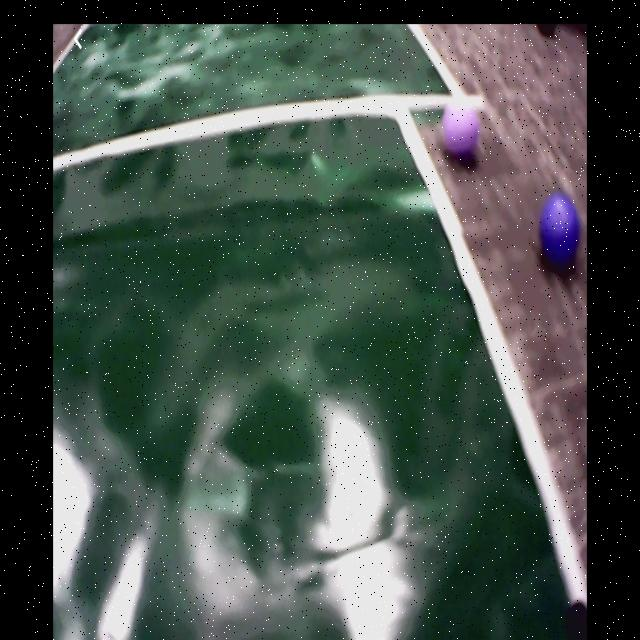ball: (541, 196, 580, 263), (440, 101, 479, 152)
